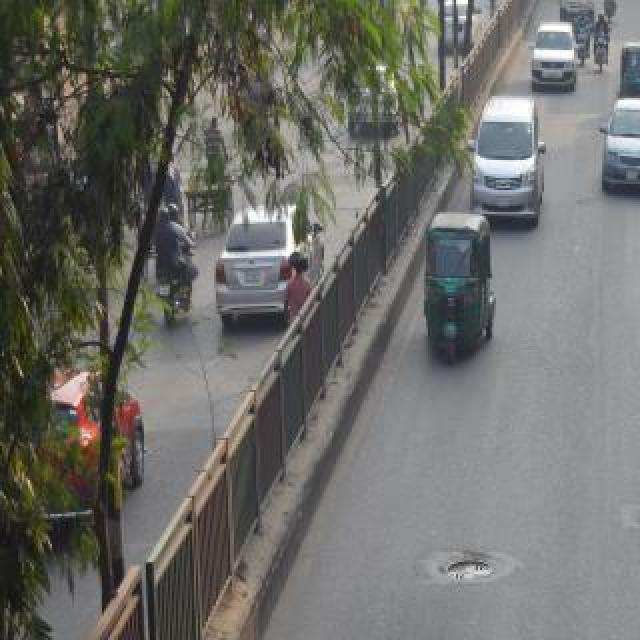car: (5, 345, 157, 581), (262, 618, 504, 640), (344, 67, 410, 147), (598, 102, 640, 194), (531, 24, 577, 88), (436, 2, 486, 54)
motorbike: (141, 198, 201, 326), (591, 11, 613, 81), (570, 11, 590, 69)
van: (468, 91, 542, 221)
